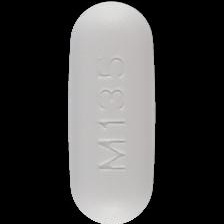0615-3550: (0, 0, 224, 224)
